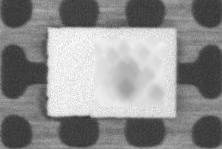DIE_INK: (136, 23, 222, 74)
